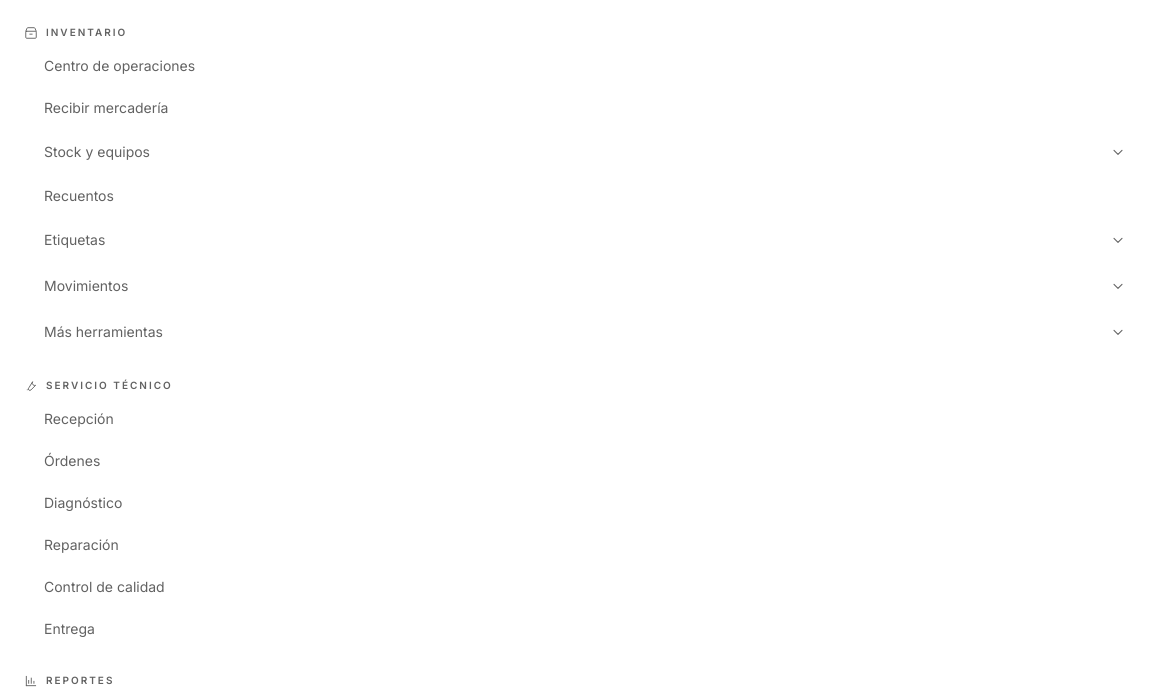
Test: el menú dibujado › Más herramientas es un enlace a su página con un botón que abre sus opciones agrupadas
This screenshot has width=1152, height=692.
(page scrolled)
Click the button named "Opciones de Más herramientas": click(1118, 332) left=1096, top=310, right=1140, bottom=354
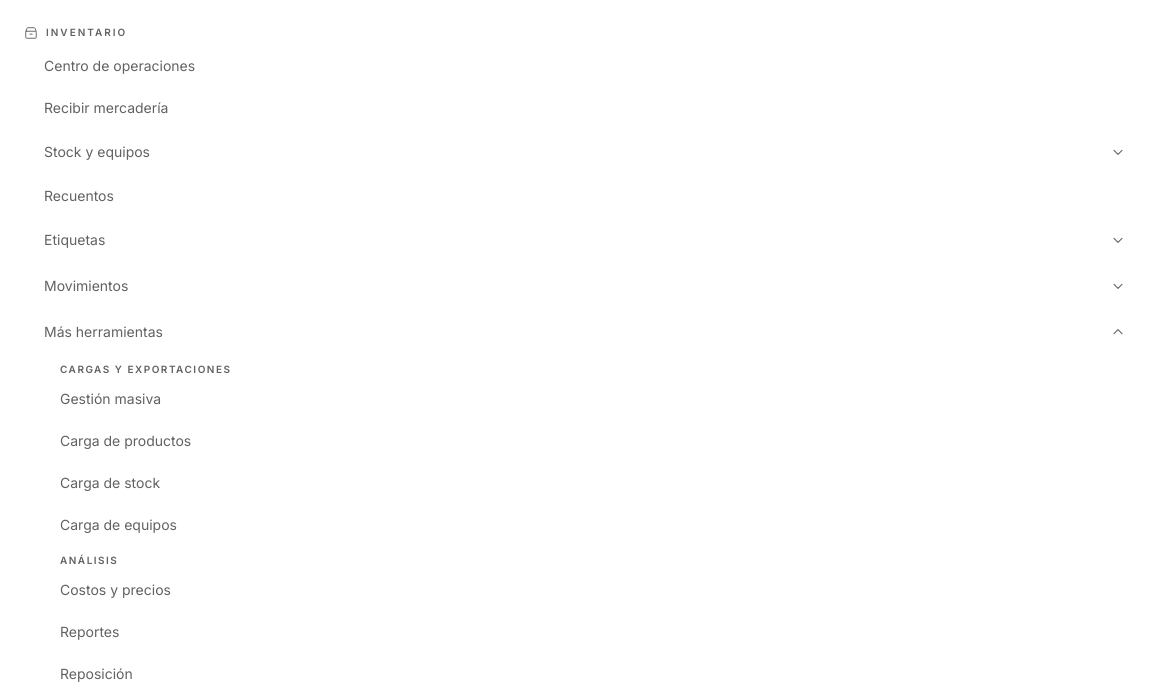
Result: the button named "Opciones de Más herramientas" is expanded at left=1096, top=310, right=1140, bottom=354
Result: the link "Gestión masiva" is shown at left=60, top=390, right=161, bottom=407
Result: the link "Carga de productos" is shown at left=60, top=432, right=191, bottom=449
